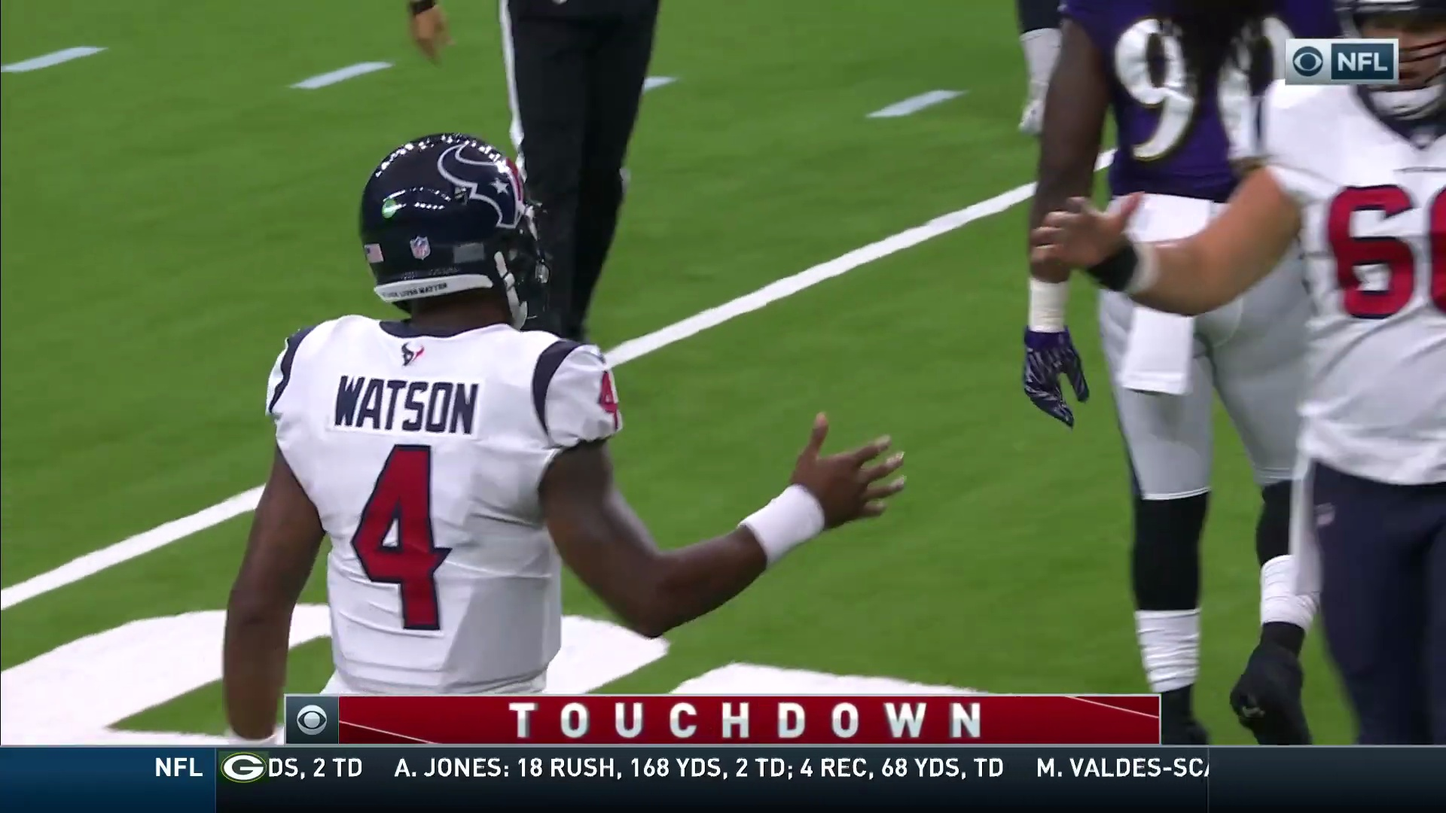Player: (1262, 0, 1446, 504)
